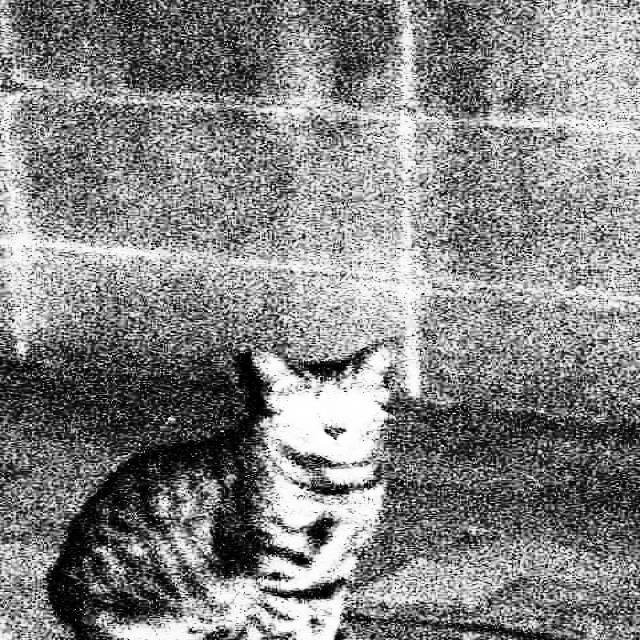Cat: (37, 330, 455, 640)
